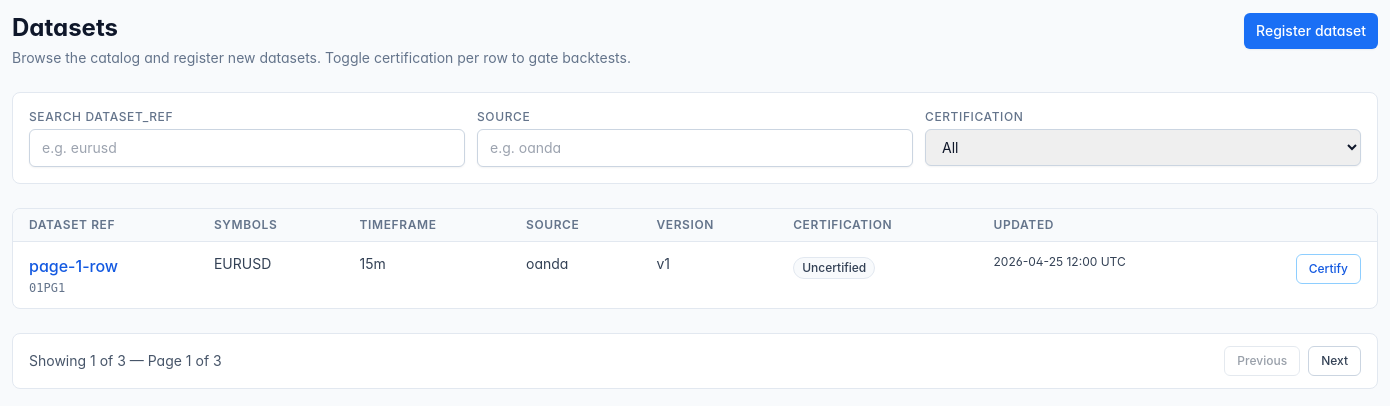
Datasets admin page › paginates: Next advances and Prev retreats the page index
Expected: the text with test id "datasets-page-current" reads "1", [186,352,192,369]
Expected: the button with test id "datasets-page-prev" is disabled, [1224,346,1300,376]
Click the button with test id "datasets-page-next": (1335, 361) [1308,346,1361,376]
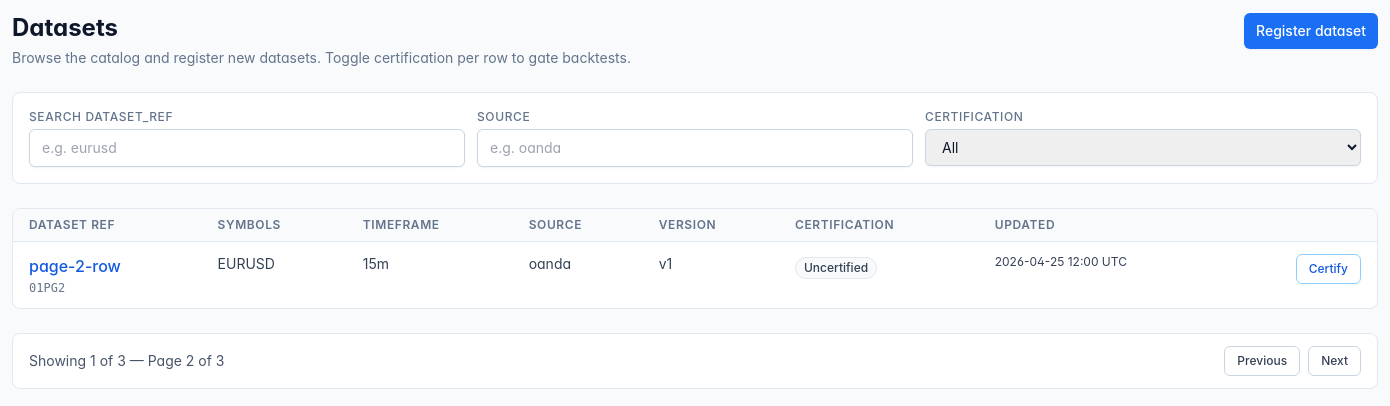
Expected: the text with test id "datasets-page-current" reads "2", [186,352,194,369]
Click the button with test id "datasets-page-prev": (1262, 361) [1224,346,1300,376]
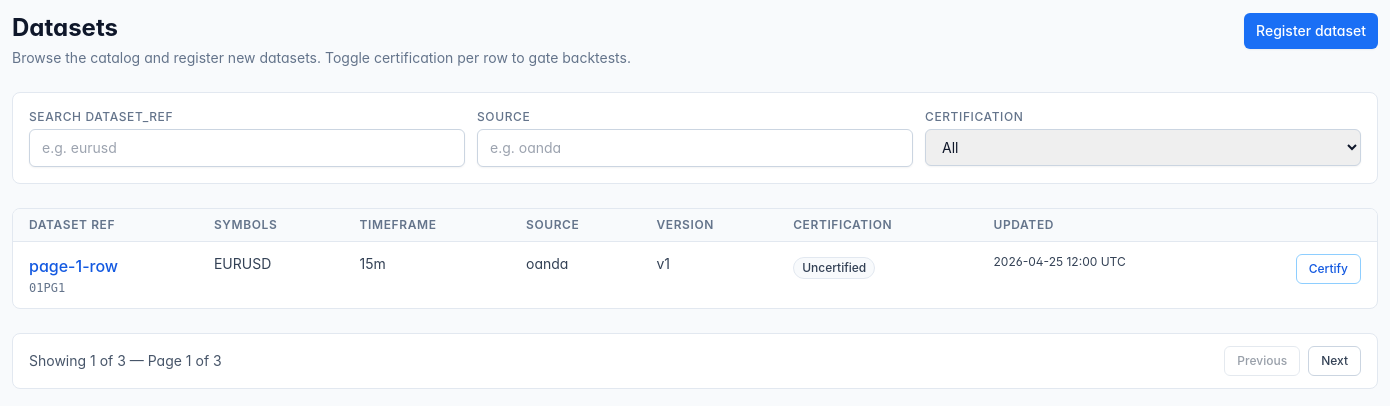
Expected: the text with test id "datasets-page-current" reads "1", [186,352,192,369]
